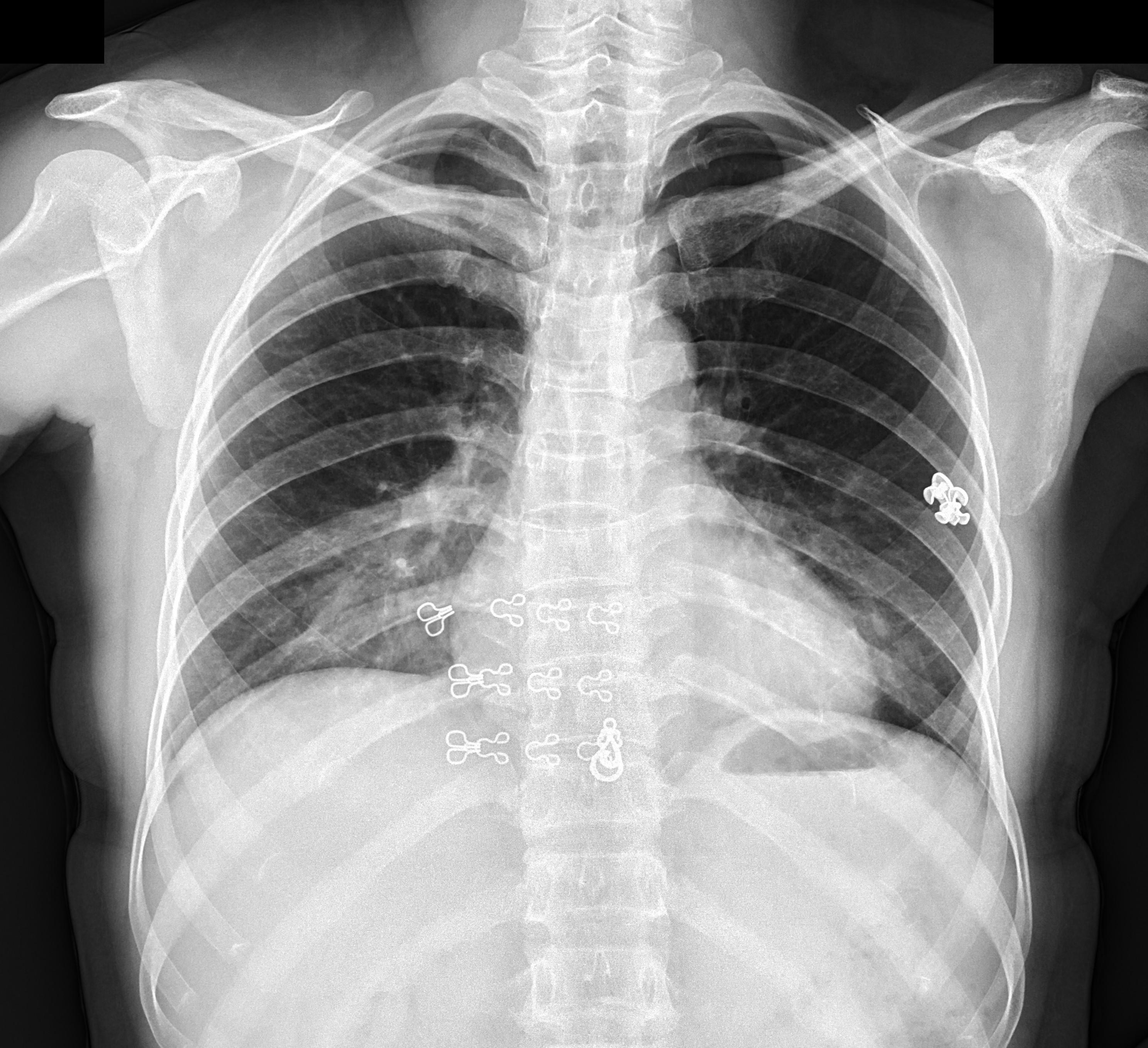Cardiomegaly: (446, 563, 887, 735)
Pleural thickening: (699, 113, 751, 125)
